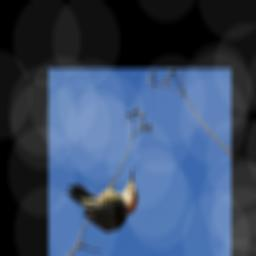Woodpecker: (62, 166, 144, 234)
